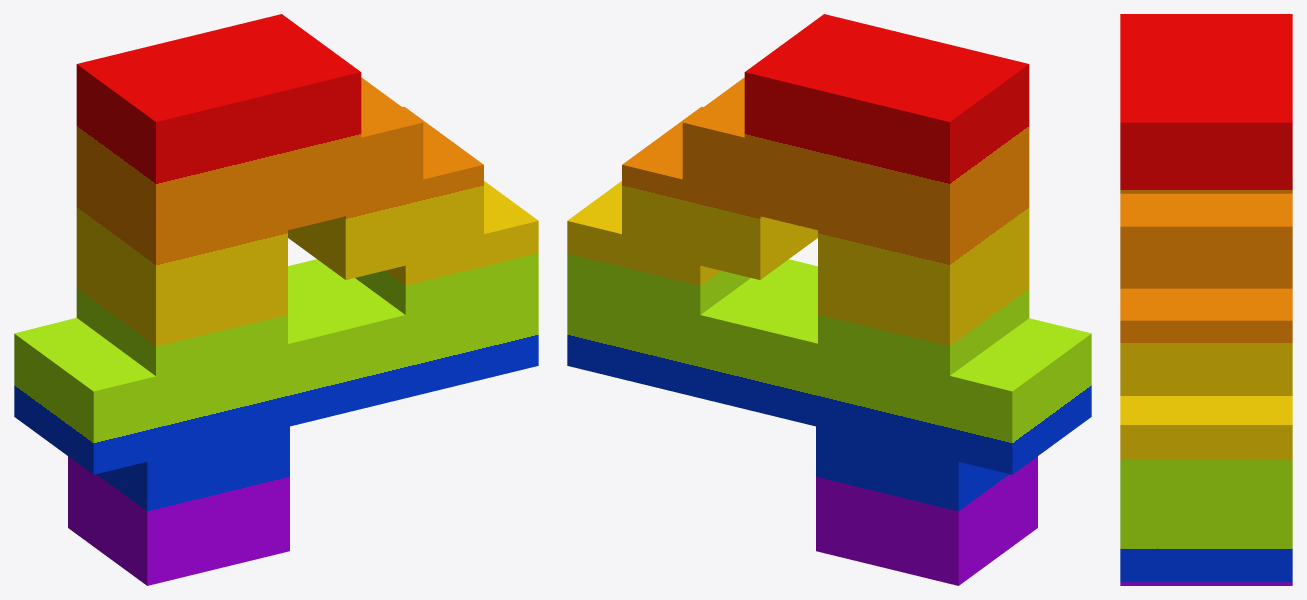
Rendered from Number_04.fbx.
The picture shows the model from 3 angles, left to right: view 1: azimuth 30°, elevation 25°; view 2: azimuth 150°, elevation 25°; view 3: azimuth 270°, elevation 25°; orthographic projection. The views are drawn at different scales.
Visible parts, largest first — view 1: Number_04; view 2: Number_04; view 3: Number_04.
Part boxes in pixels (left/top/right/bottom): Number_04: left=14, top=14, right=538, bottom=585; Number_04: left=567, top=14, right=1091, bottom=585; Number_04: left=1120, top=14, right=1292, bottom=585.
Bounding box in the file's own units: 78.7 × 77.97 × 24.3.
